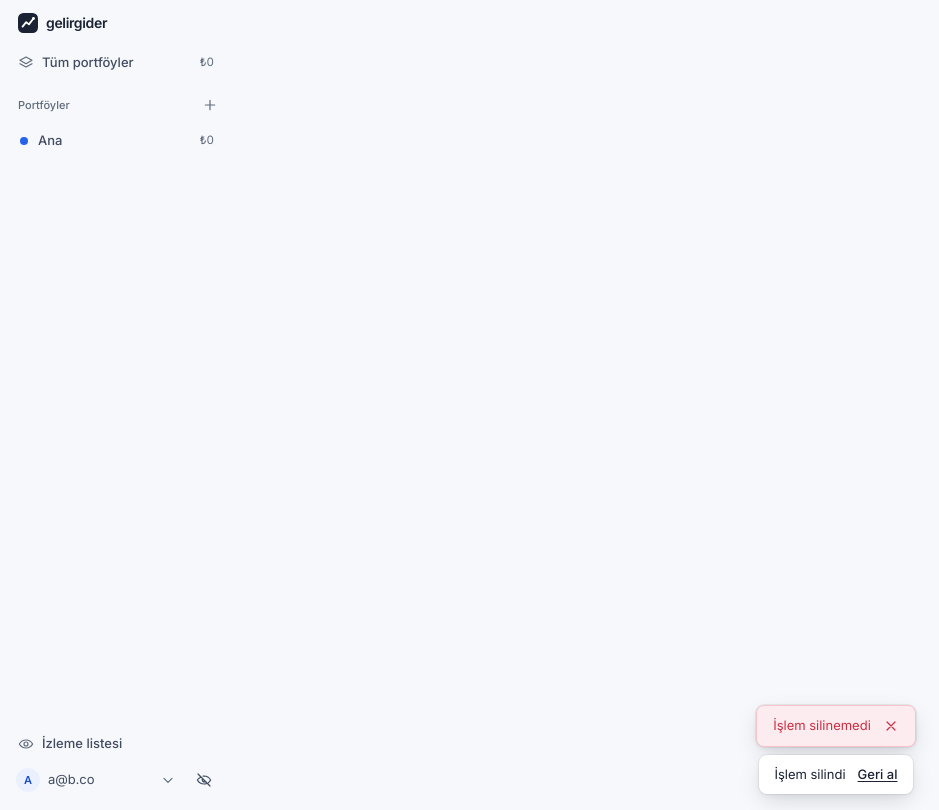
Test case: App › sends the user to the login page when a data query finds the session gone
The width and height of the screenshot is (939, 810).
Click the link "Ana ₺0" at [24, 141], box top-left (20, 132), bottom-right (214, 148)
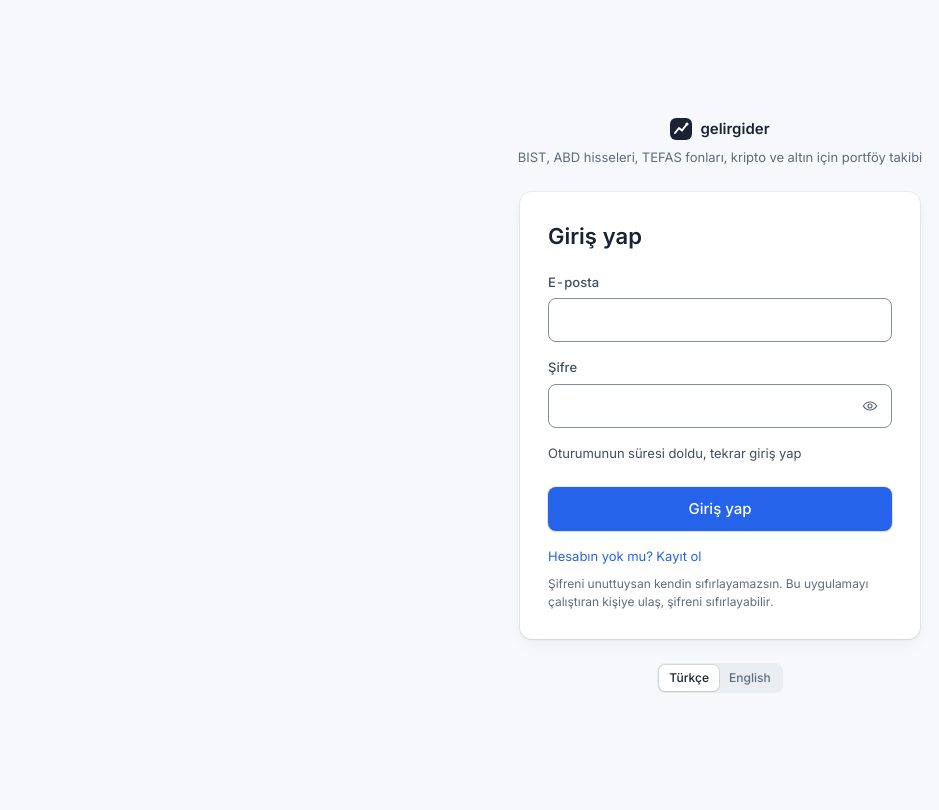
Now the button "Giriş yap" is shown, box top-left (548, 487), bottom-right (892, 531)
